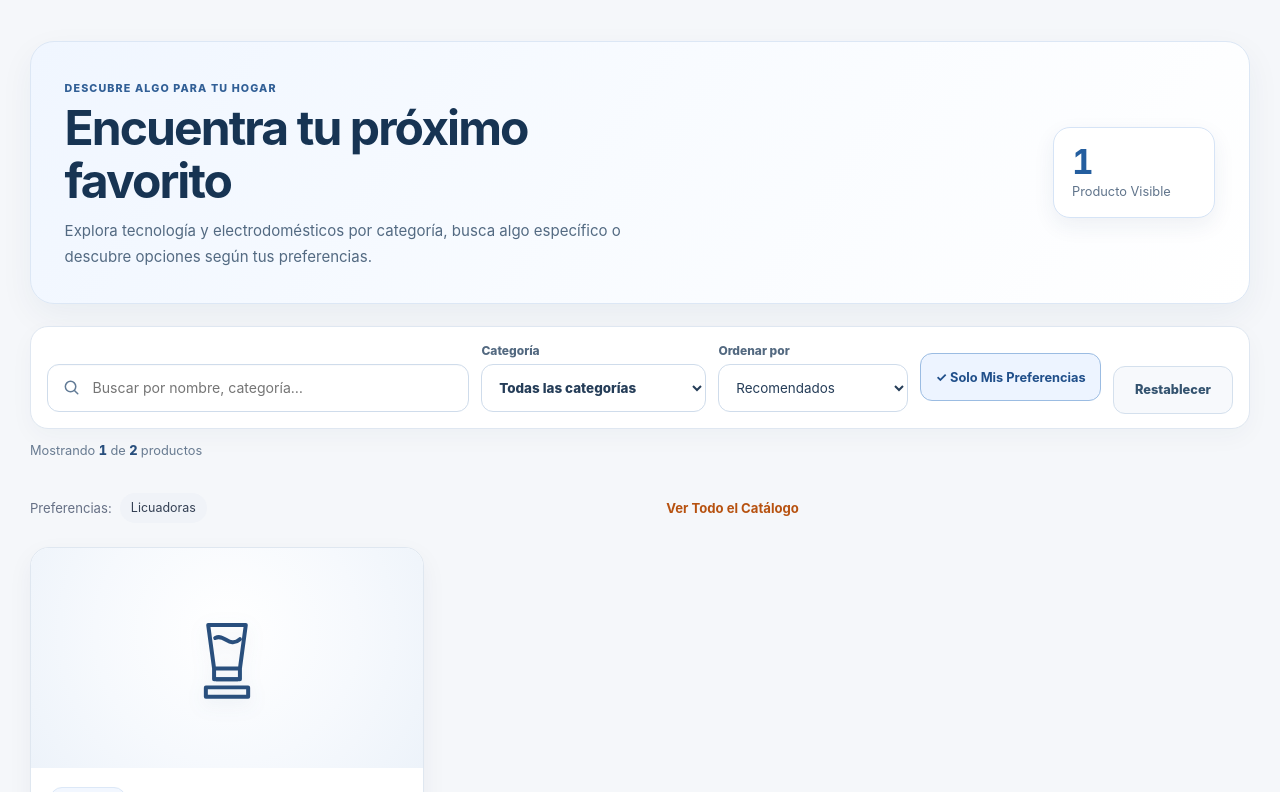
Test: ListadoProductos › uses saved category preferences as an optional filter, without preventing access to the full catalog
Expected: the heading "Tostadora Test" is not shown
Click the button "Ver Todo el Catálogo" at [732, 508], box [641,488,824,528]
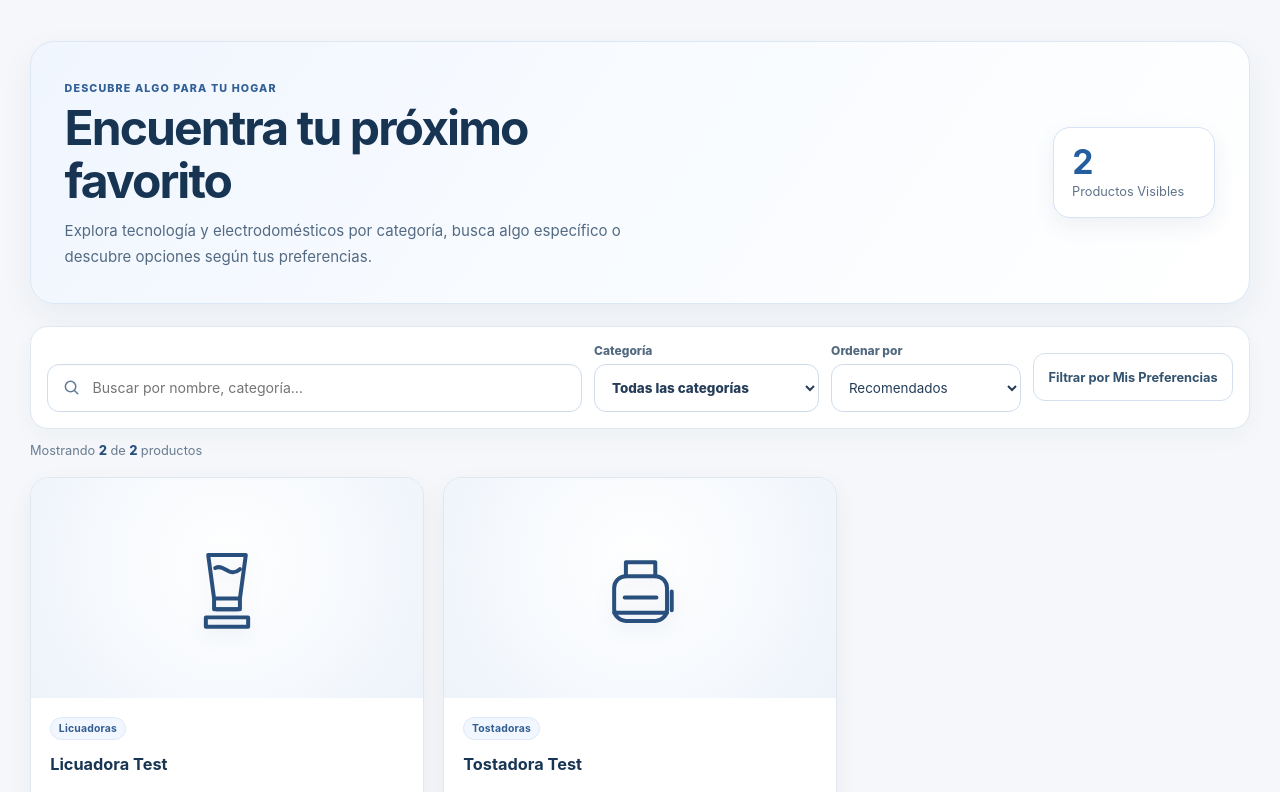
Expected: the heading "Licuadora Test" is shown, [50,754,168,774]
Expected: the heading "Tostadora Test" is shown, [463,754,582,774]
